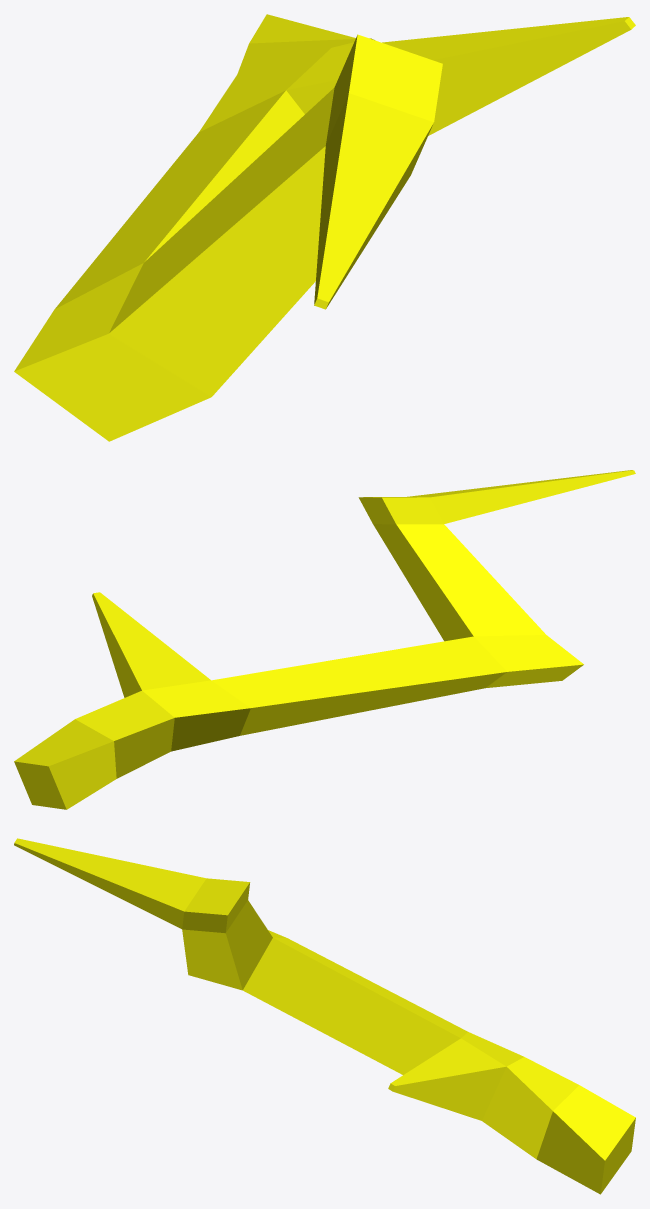
File: Lightning_Bolt_Middle.glb
3 views of the same model, one above another, from view 1: azimuth 30°, elevation 25°; view 2: azimuth 150°, elevation 25°; view 3: azimuth 270°, elevation 25° (orthographic). The views are drawn at different scales.
Visible parts, largest first — view 1: Lightening_Bolt.001; view 2: Lightening_Bolt.001; view 3: Lightening_Bolt.001.
Part boxes in pixels (x1,y1,x2,y2): Lightening_Bolt.001: (14, 14, 635, 441); Lightening_Bolt.001: (14, 470, 635, 809); Lightening_Bolt.001: (14, 838, 635, 1194).
Bounding box in the file's own units: 0.0354 × 0.0183 × 0.0458.
